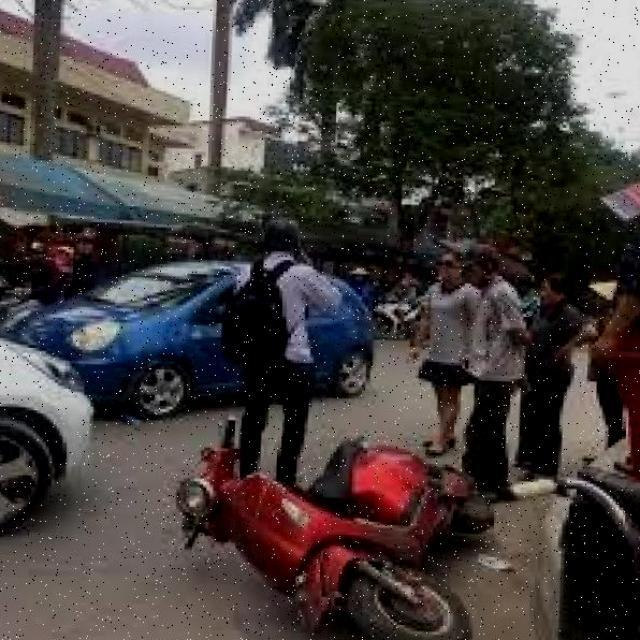accident: (134, 383, 522, 640)
